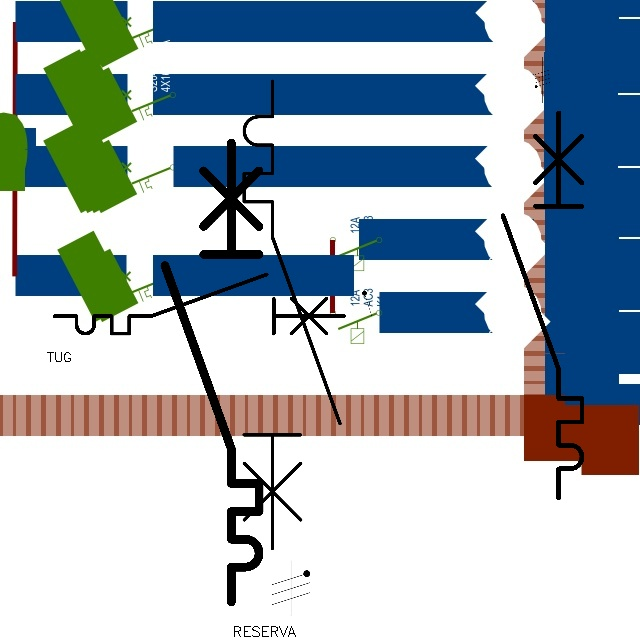interruptor_termomagnetico: (232, 69, 352, 560), (153, 131, 271, 614), (493, 102, 592, 507), (47, 267, 351, 341)
